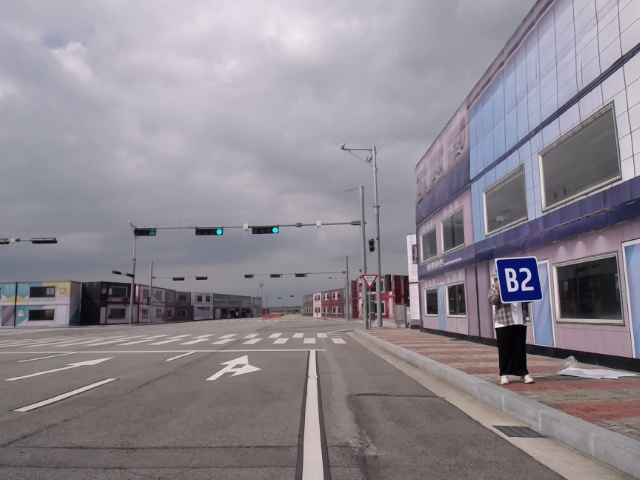delivery_b2: (494, 255, 546, 303)
straight_green_4: (250, 223, 281, 236), (194, 225, 225, 236), (268, 272, 287, 278), (294, 272, 310, 278)
